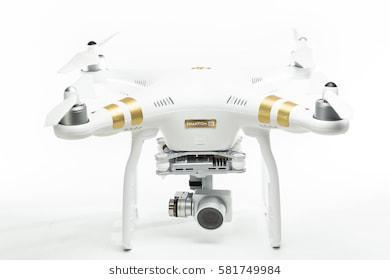drone: (34, 20, 359, 258)
